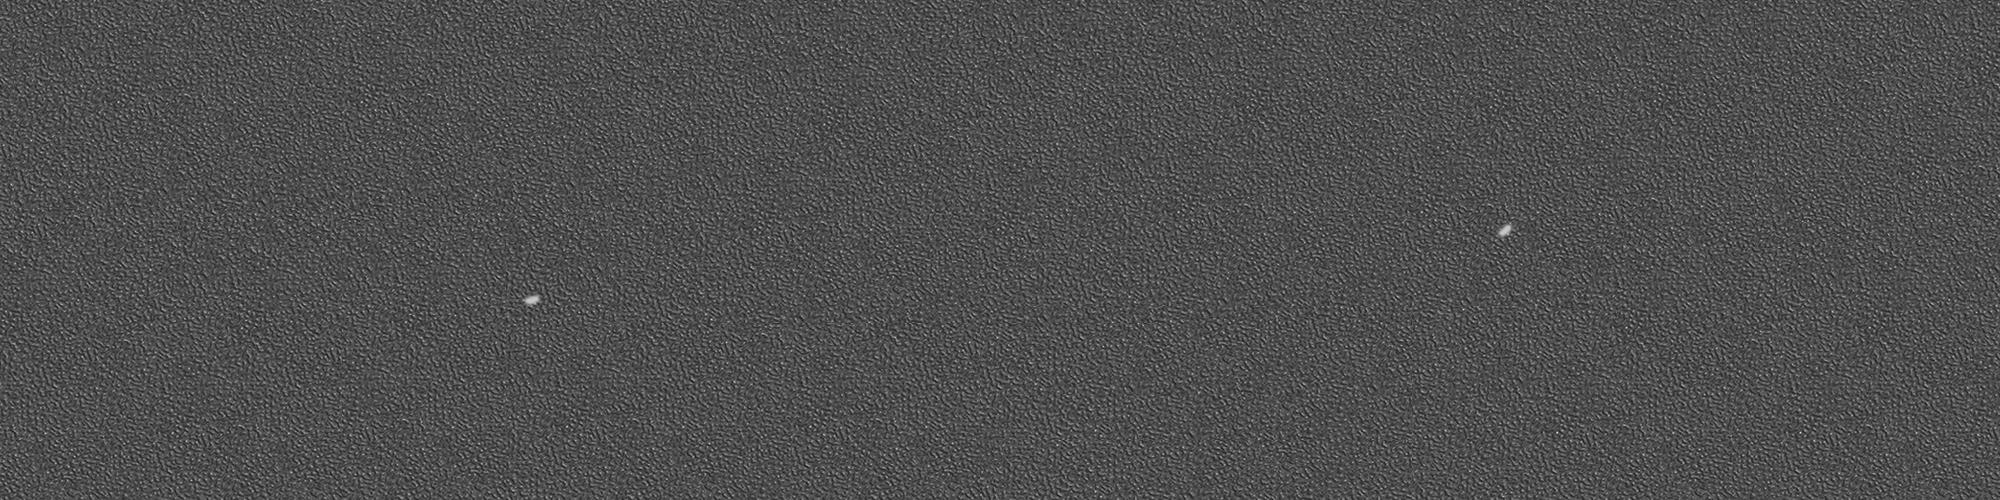Particles: (519, 288, 546, 312), (1491, 219, 1519, 240)
